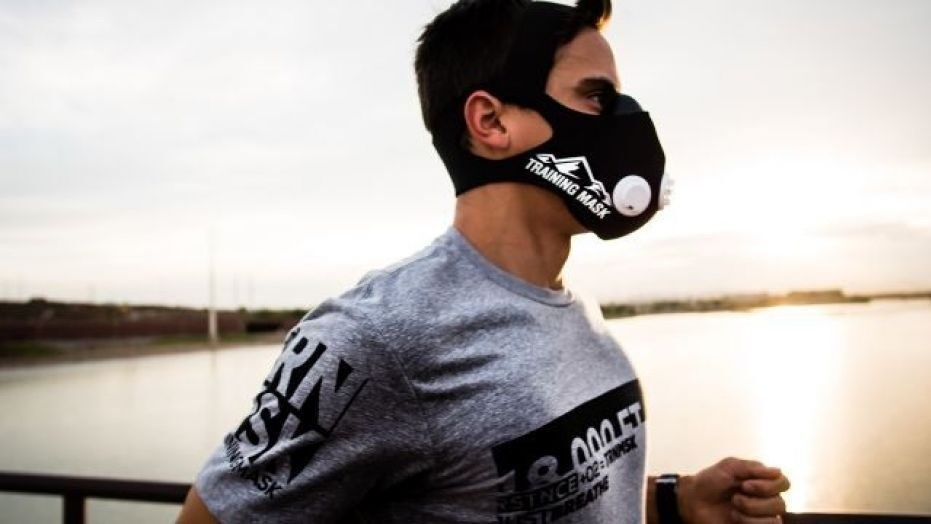face_with_mask: (408, 2, 682, 240)
